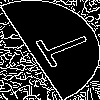T: (24, 25, 95, 73)
